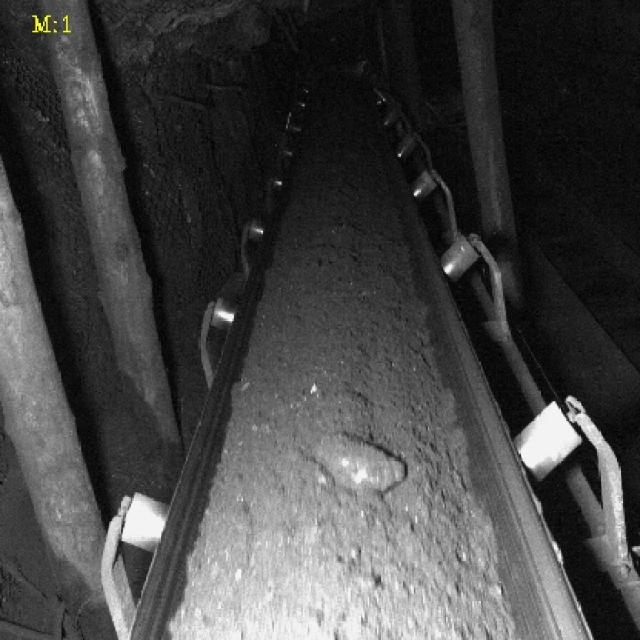large_sized_coal: (314, 434, 406, 492)
